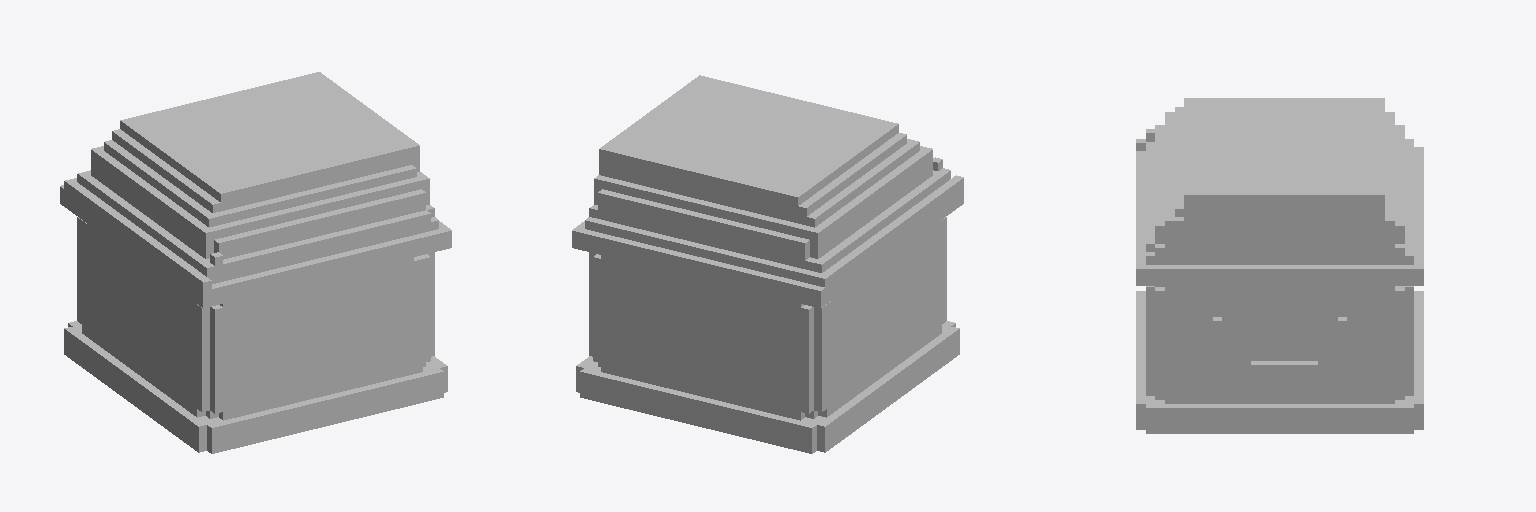
Rendered from Enemy.obj.
The picture shows the model from 3 angles: view 1: azimuth 30°, elevation 25°; view 2: azimuth 150°, elevation 25°; view 3: azimuth 270°, elevation 25°; orthographic projection.
Parts seen in each view (by area): view 1: object 1; view 2: object 1; view 3: object 1.
Boxes of the visible parts, x1,y1,x2,y2 form: object 1: [60, 72, 451, 453]; object 1: [572, 75, 963, 453]; object 1: [1136, 98, 1423, 433].
Size of the model in its own units: 3 by 2.7 by 3.